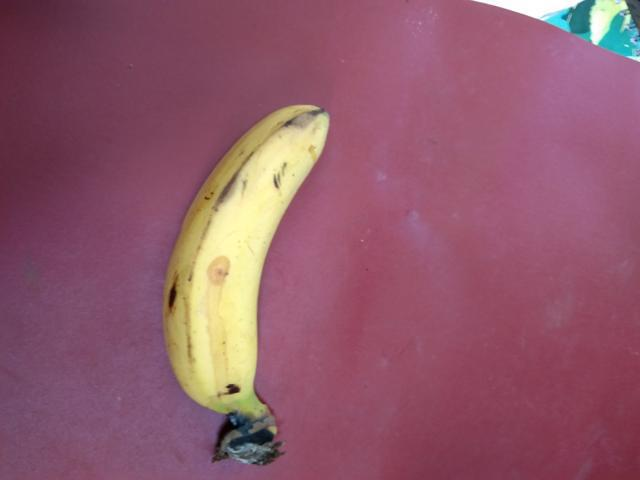ripe: (149, 94, 340, 412)
